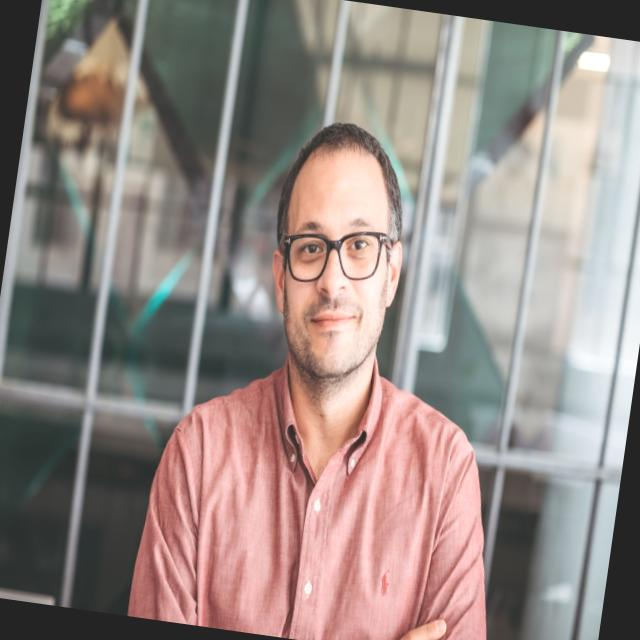no-goggles: (274, 228, 398, 284)
no-helmet: (284, 84, 418, 208)
no-vest: (139, 353, 492, 640)
